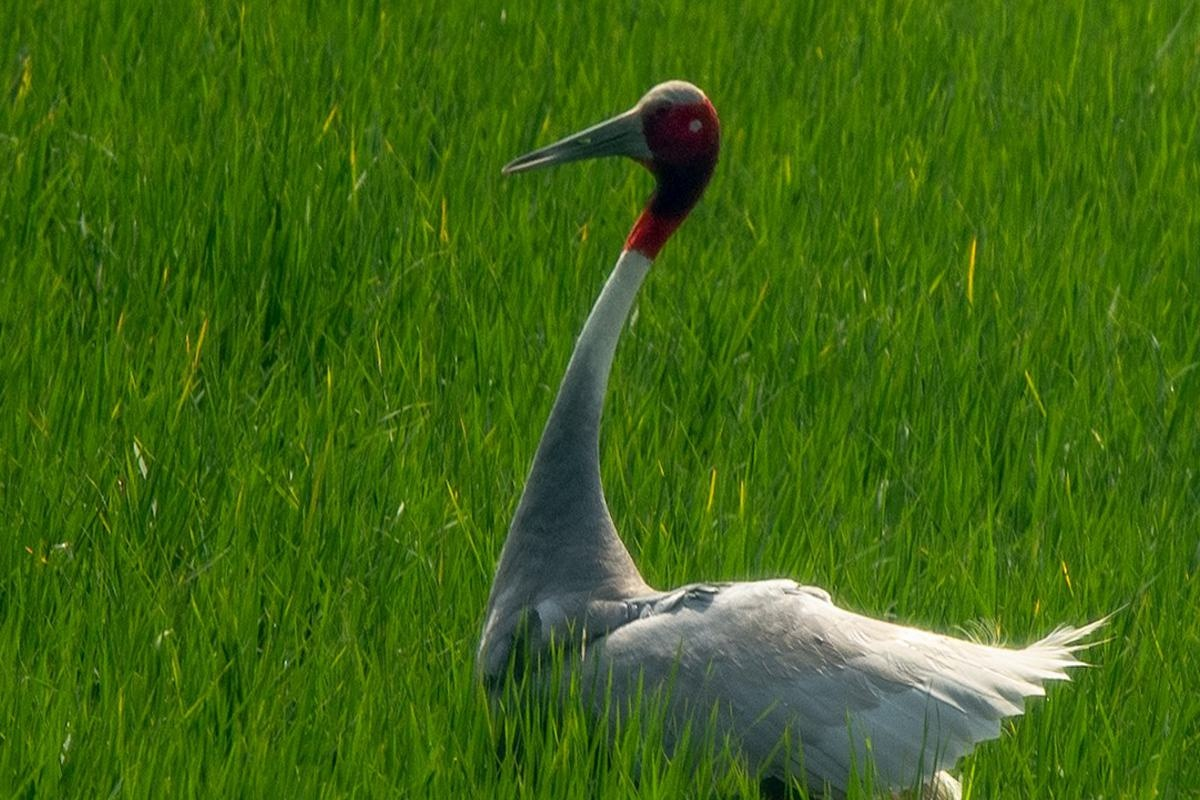crane: (495, 50, 1045, 800)
